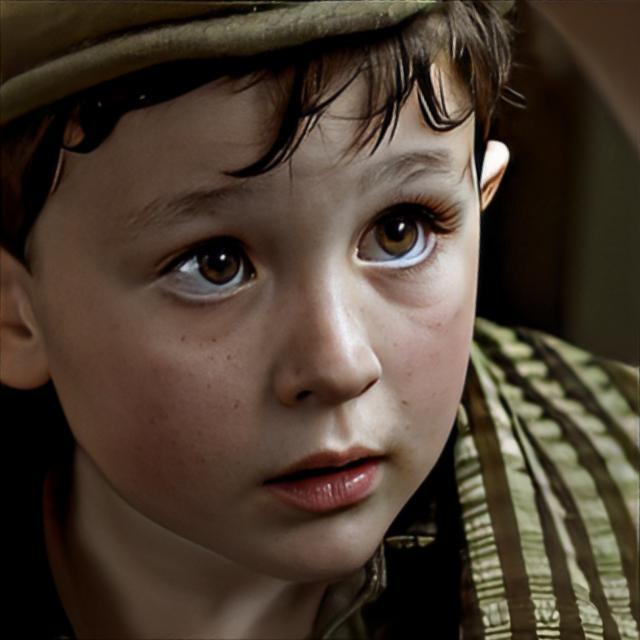surprise: (34, 18, 482, 580)
